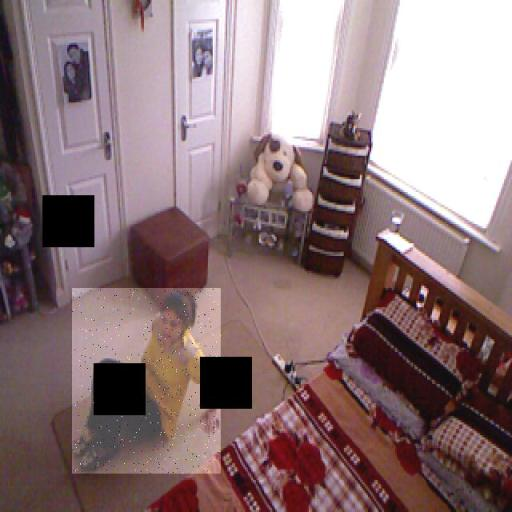Fall: (72, 288, 221, 474)
